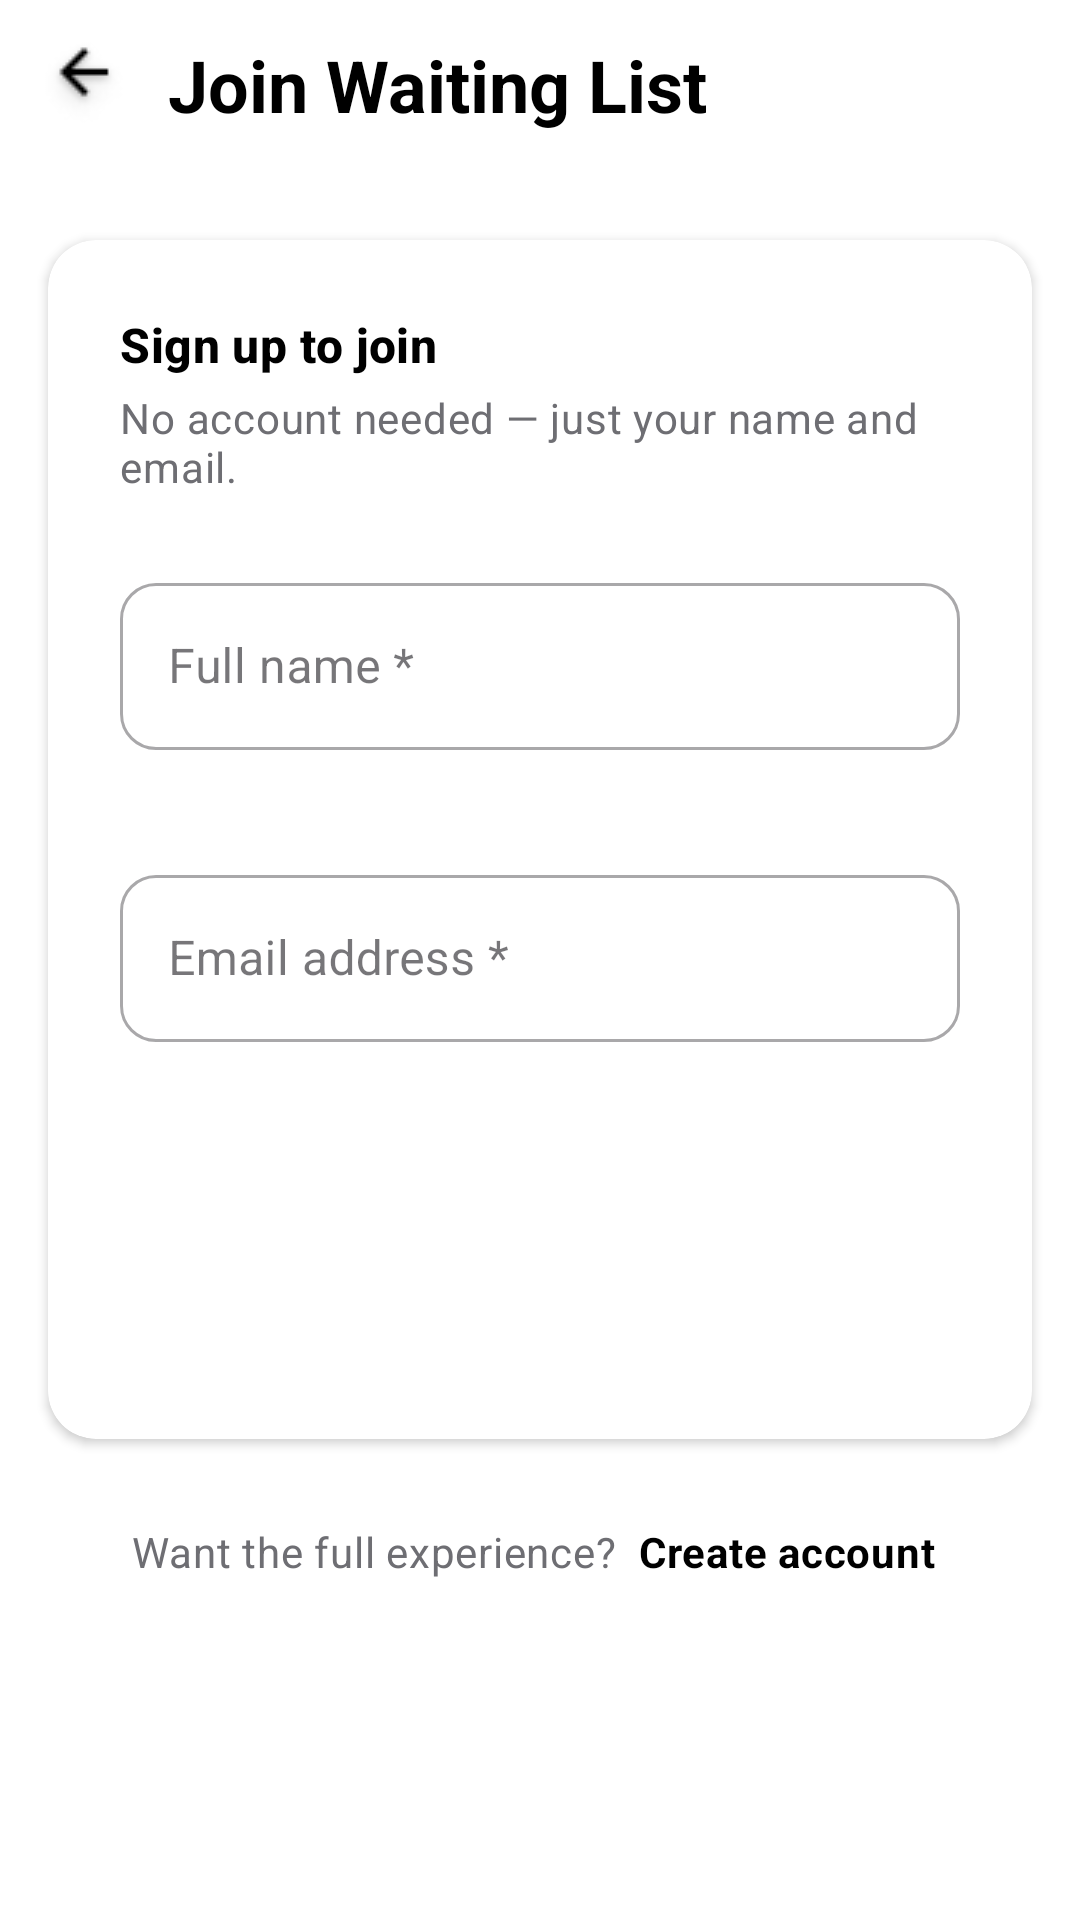

Icon bounding boxes for this 1080x1920 phone screenshot, format box=[x1, y1, x2, y2]:
Back: box=[59, 47, 109, 99]
